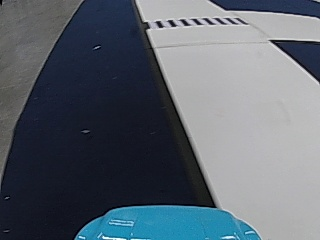CrossWalk: (146, 15, 241, 29)
